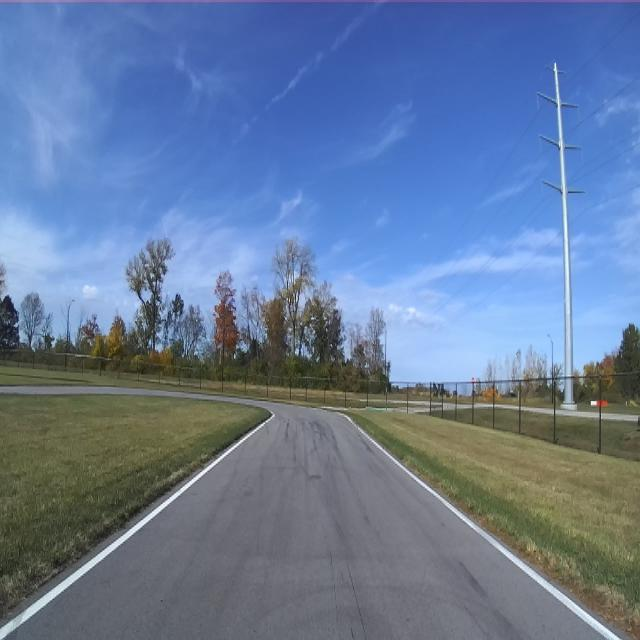white-line: (336, 412, 620, 639), (0, 411, 274, 639)
